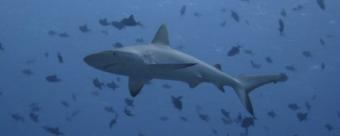Shark -Selachimorpha-: (83, 22, 279, 115)
